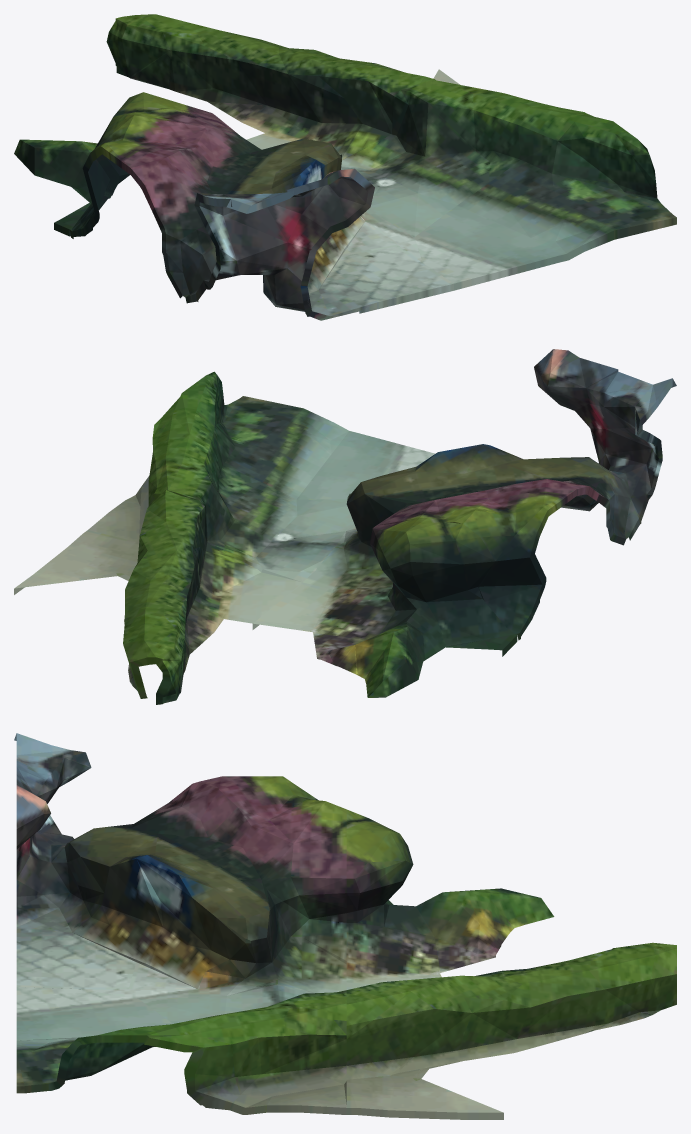
The model's file is BuildingMesh-00020.gltf.
3 renders of one model, top to bottom at view 1: azimuth 30°, elevation 25°; view 2: azimuth 150°, elevation 25°; view 3: azimuth 270°, elevation 25°, orthographic. The views are drawn at different scales.
Visible parts, largest first — view 1: BuildingMesh-00020; view 2: BuildingMesh-00020; view 3: BuildingMesh-00020.
Boxes of the visible parts, x1,y1,x2,y2 form: BuildingMesh-00020: [14, 14, 676, 320]; BuildingMesh-00020: [14, 349, 676, 704]; BuildingMesh-00020: [14, 733, 676, 1119].
Bounding box in the file's own units: 0.7843 × 0.2706 × 0.9765.
Materials: 1 (1 with a texture image).
